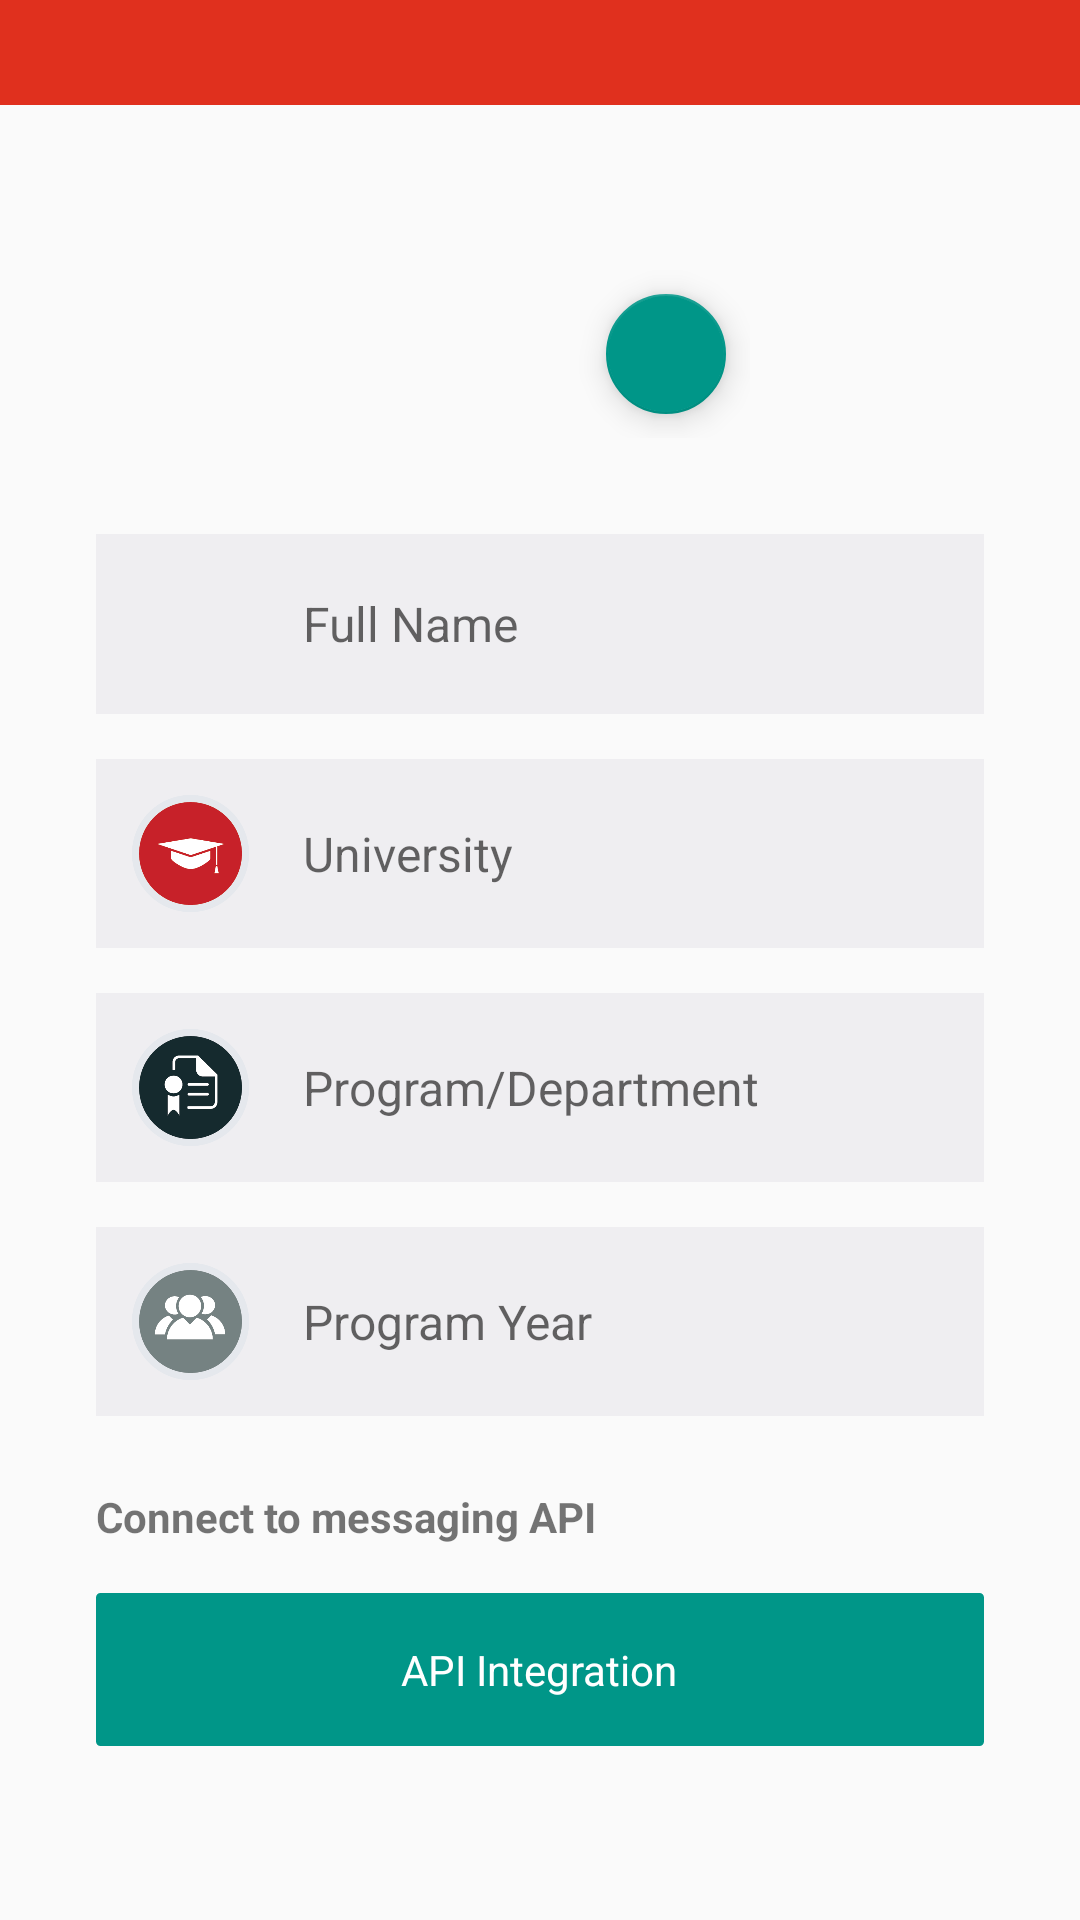

Point at icon controls on the screen. Image size 1080px x 1920px, points as (x,y).
uni: (190,853)
